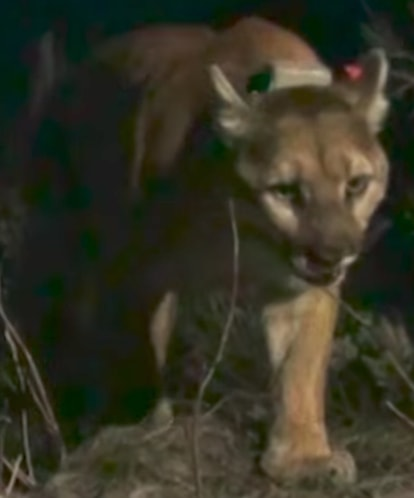Mountain Lion: (67, 22, 402, 488)
